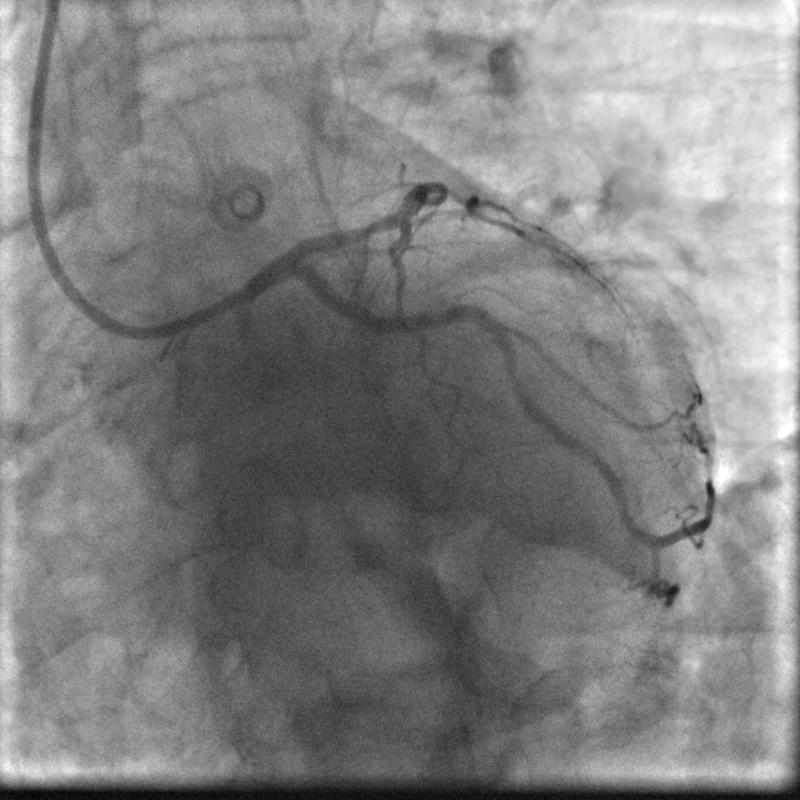Stenosis: (505, 358, 525, 389)
